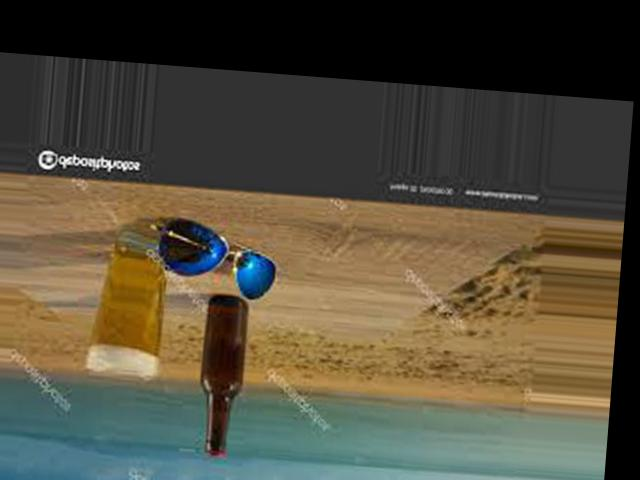beer: (195, 295, 249, 458)
